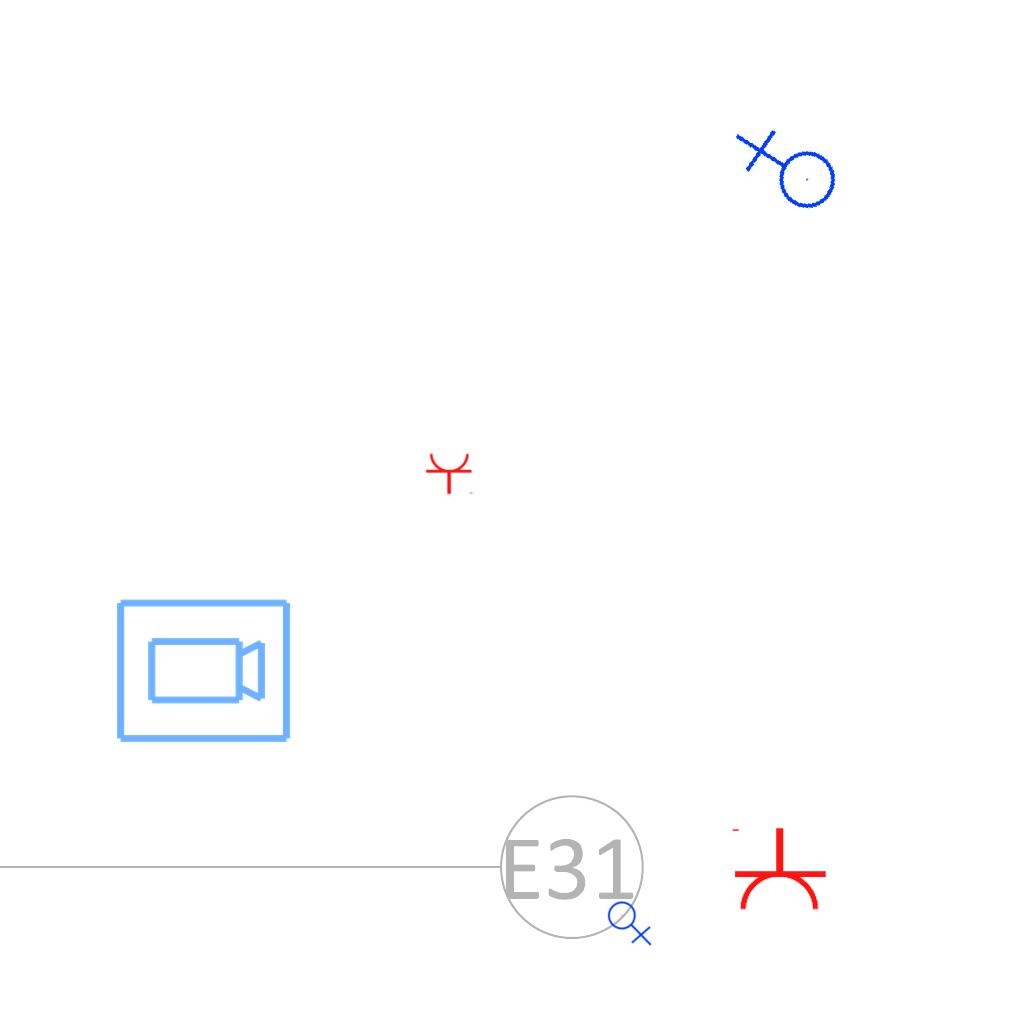Elektroanschluss_allgemein_230V_Geraeteanschlussdose_230V: (729, 112, 846, 232), (607, 897, 654, 946)
KFO_Kamera_mit_Festobjektiv: (112, 595, 294, 749)
Schukosteckdose_einfach: (728, 826, 828, 913), (425, 452, 475, 495)
